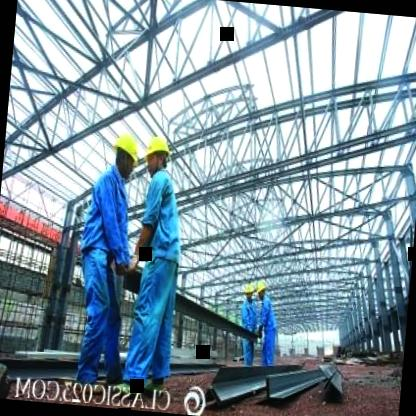helmet: (143, 134, 174, 176), (112, 132, 141, 173), (242, 281, 257, 304), (255, 278, 268, 302)
